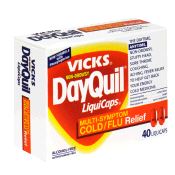grozi_8: (13, 17, 170, 163)
